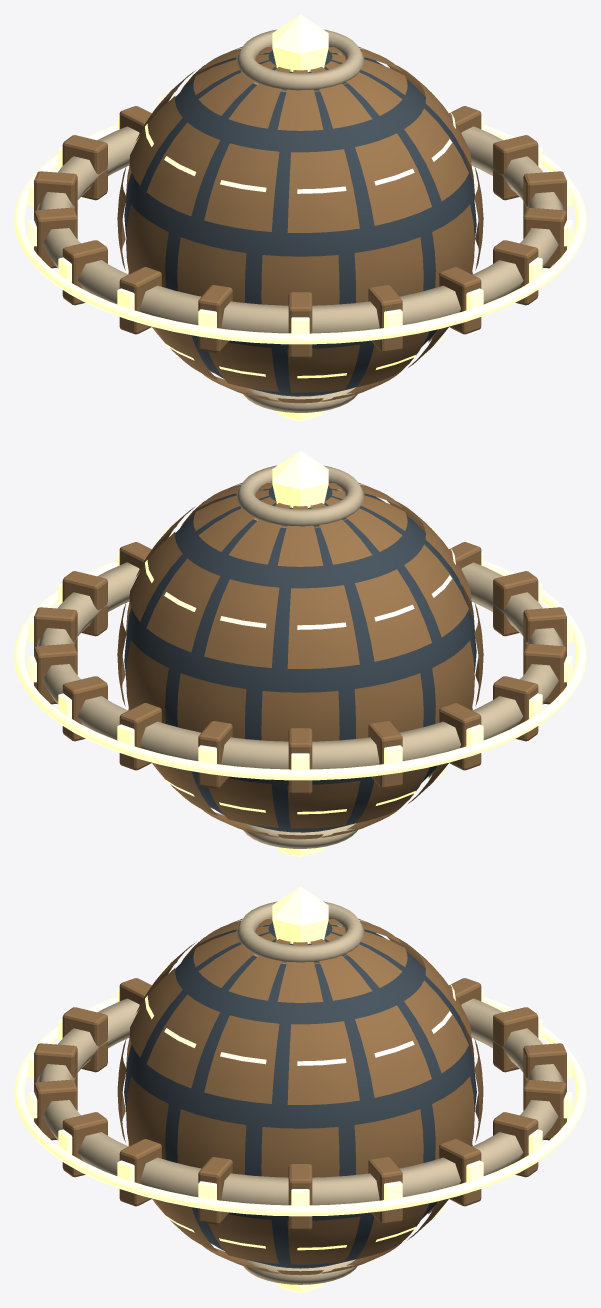
File: personal-core.glb
The picture shows the model from 3 angles, top to bottom: view 1: azimuth 30°, elevation 25°; view 2: azimuth 150°, elevation 25°; view 3: azimuth 270°, elevation 25°; orthographic projection.
Visible parts, largest first — view 1: body_hull, body_dark, idle_rotor_hull, idle_rotor_ceramic, idle_rotor_light, body_ceramic, body_light; view 2: body_hull, body_dark, idle_rotor_hull, idle_rotor_ceramic, idle_rotor_light, body_ceramic, body_light; view 3: body_hull, body_dark, idle_rotor_hull, idle_rotor_ceramic, idle_rotor_light, body_ceramic, body_light.
Boxes of the visible parts, x1,y1,x2,y2 form: body_hull: (117, 45, 483, 403); body_dark: (124, 50, 476, 396); idle_rotor_hull: (34, 106, 566, 358); idle_rotor_ceramic: (37, 126, 563, 333); idle_rotor_light: (14, 116, 586, 344); body_ceramic: (236, 29, 364, 412); body_light: (145, 14, 455, 421); body_hull: (117, 481, 483, 839); body_dark: (124, 486, 476, 832); idle_rotor_hull: (34, 542, 566, 794); idle_rotor_ceramic: (37, 562, 563, 769); idle_rotor_light: (14, 552, 586, 780); body_ceramic: (236, 465, 364, 848); body_light: (145, 450, 455, 857); body_hull: (117, 917, 483, 1275); body_dark: (124, 922, 476, 1268); idle_rotor_hull: (34, 978, 566, 1230); idle_rotor_ceramic: (37, 998, 563, 1205); idle_rotor_light: (14, 988, 586, 1216); body_ceramic: (236, 901, 364, 1284); body_light: (145, 886, 455, 1293).
Bounding box in the file's own units: 2 × 1.57 × 2.
